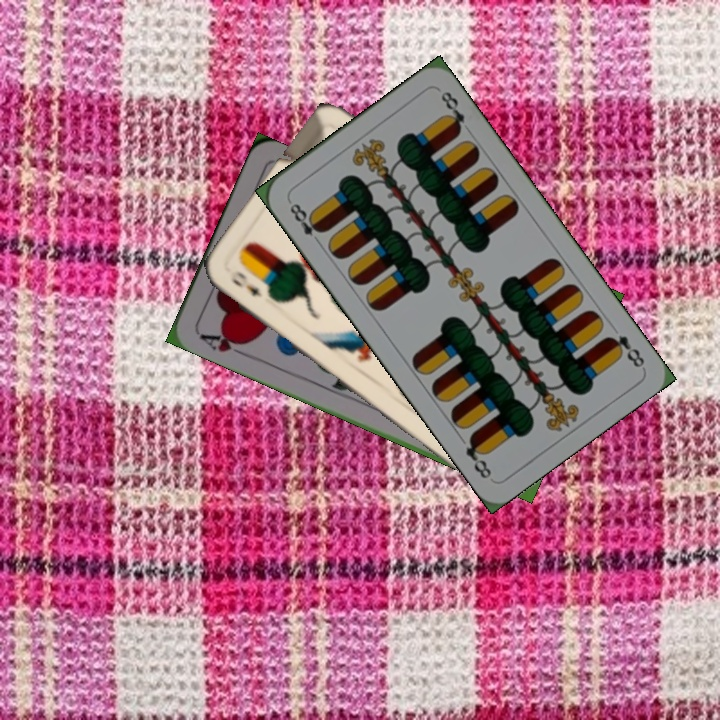E8: (284, 196, 327, 248), (602, 331, 647, 370)
EO: (226, 266, 265, 300)
HA: (195, 327, 252, 360)
